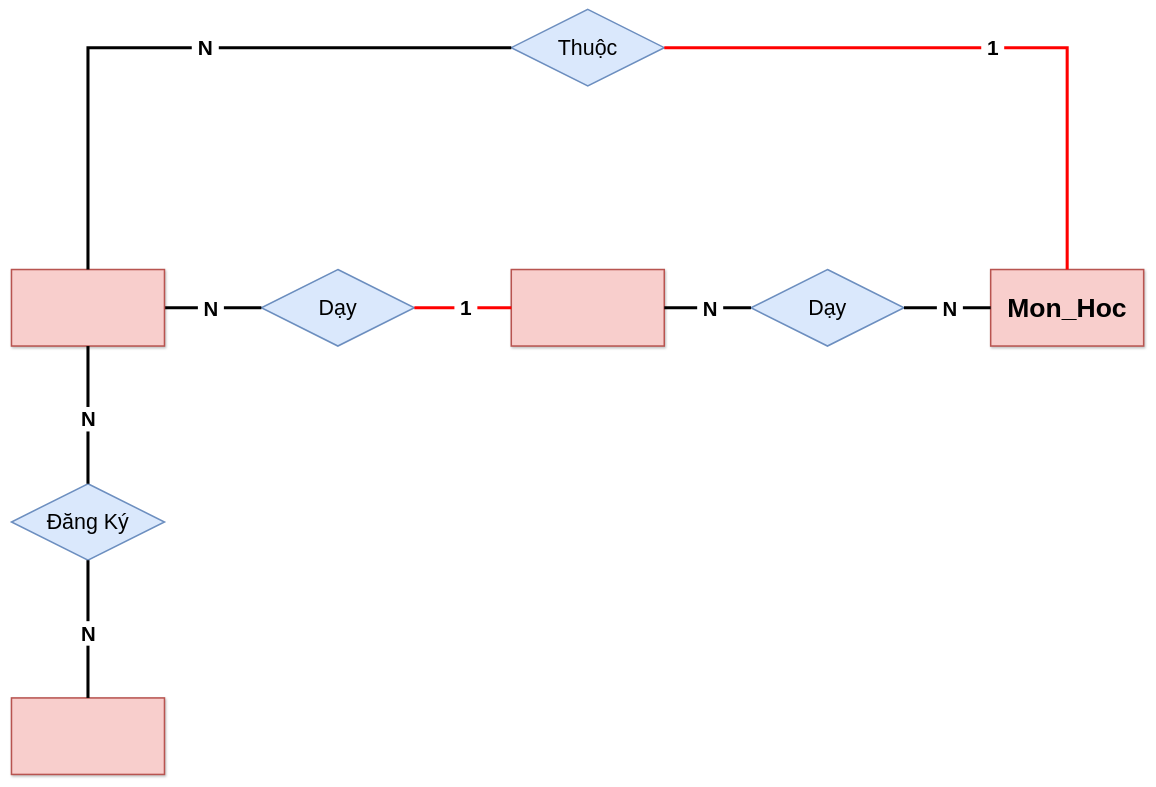
The diagram is 1156 pixels wide and 787 high, and some of its shapes have lost their labels. The shapes that lost their labels are listed below. From the top down, each one's centre as x and y in pixels, then its label:
pixel 88 308: Lop Hoc Phan
pixel 588 308: Giang_Vien
pixel 88 737: Sinh_Vien
